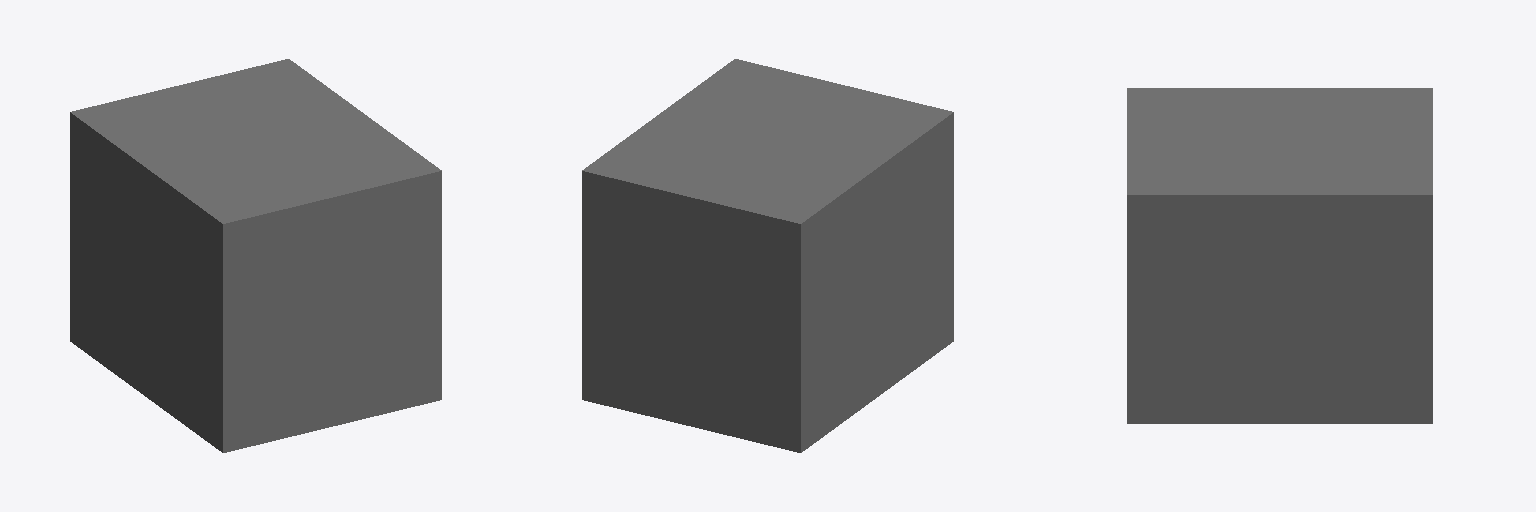
The model's file is mask.obj.
3 views of the same model, side by side, from view 1: azimuth 30°, elevation 25°; view 2: azimuth 150°, elevation 25°; view 3: azimuth 270°, elevation 25° (orthographic).
Bounding box in the file's own units: 1.65 × 1.65 × 2.